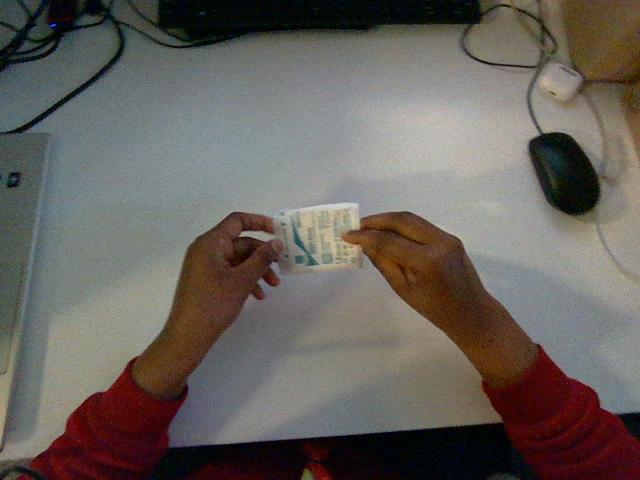gauze: (273, 203, 361, 273)
